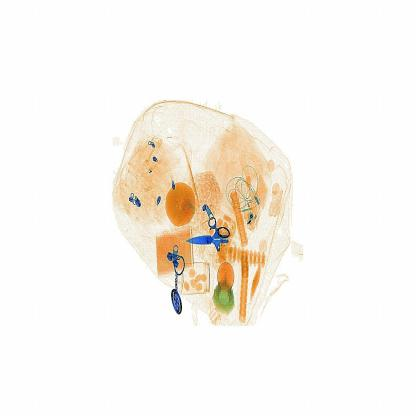gun: (185, 208, 251, 271)
